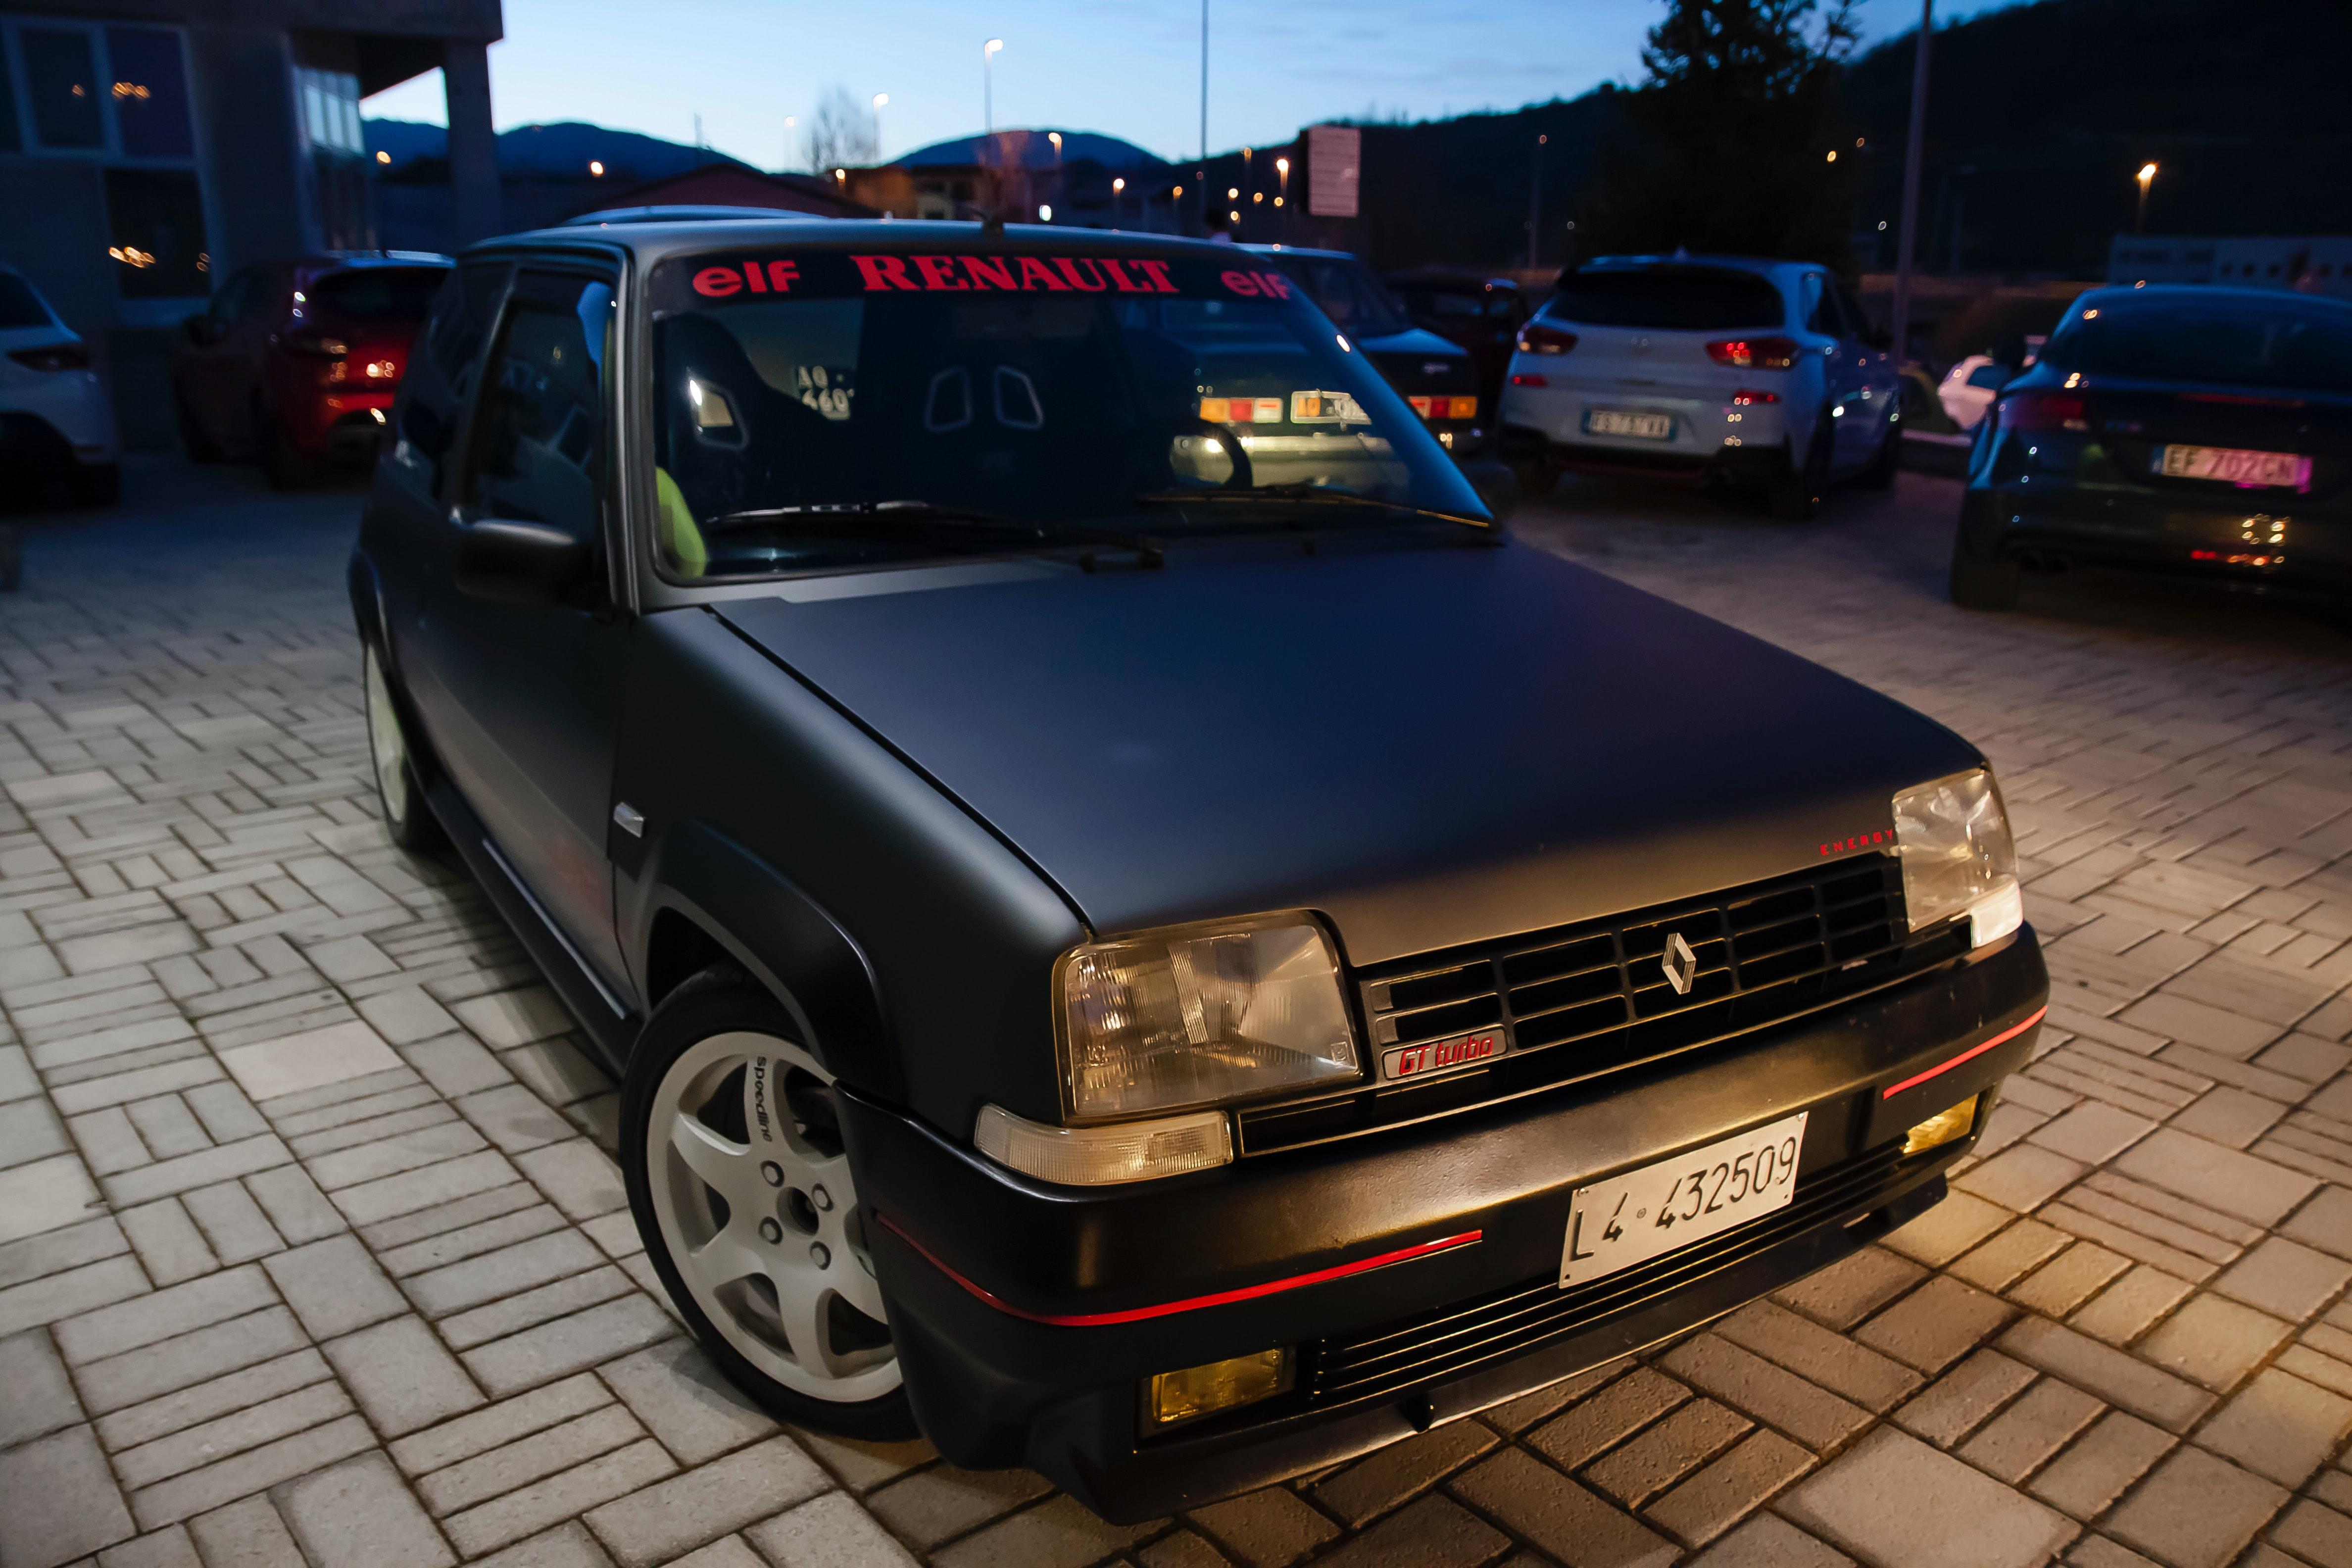Renault: (1638, 912, 1718, 1017)
